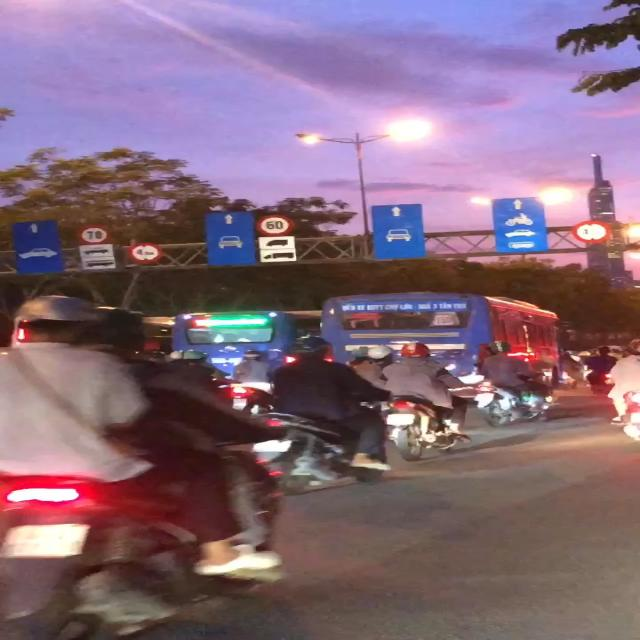Bien bao toc do toi da cho phep: (253, 214, 296, 237), (76, 225, 114, 246)
